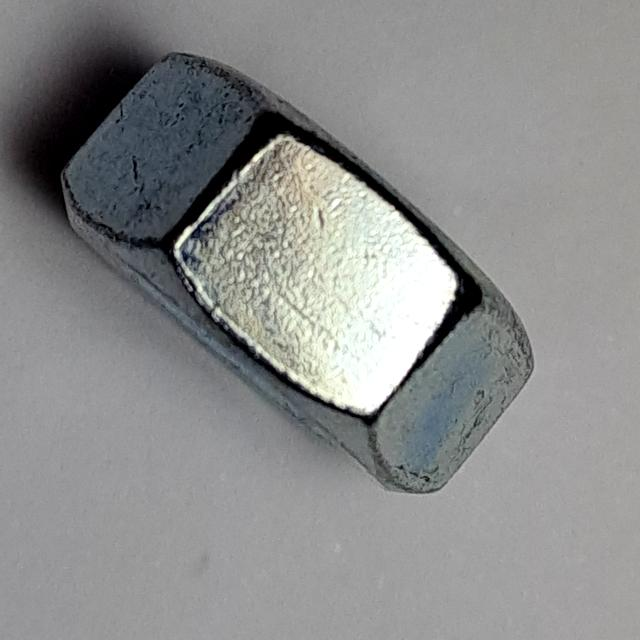Side_Excellent: (51, 44, 548, 503)
